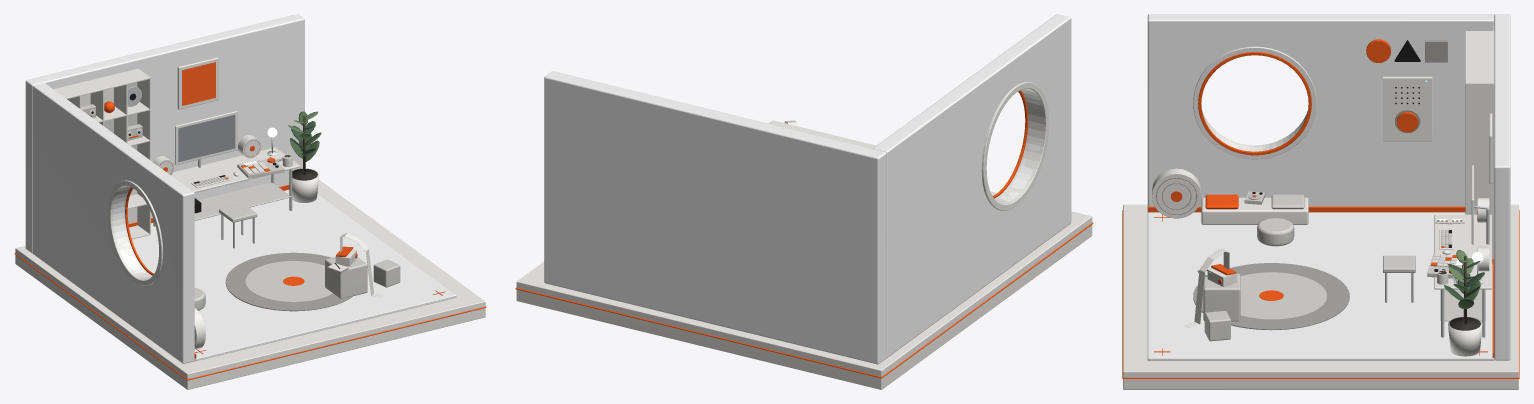
Rendered from room.glb.
3 renders of one model, left to right at view 1: azimuth 30°, elevation 25°; view 2: azimuth 150°, elevation 25°; view 3: azimuth 270°, elevation 25°, orthographic. The views are drawn at different scales.
Visible parts, largest first — view 1: WallLeft, Floor, WallRight, Plinth, CubbyWall, Rug, Desk, WindowRing, Screen_Terminal, Plant, CubeTable, Screen_Matrix (+7 smaller); view 2: WallRight, WallLeft, Plinth, WindowRing, CubbyWall; view 3: WallLeft, Floor, Plinth, Rug, WallRight, CubbyWall, WindowRing, Desk, Intercom, Bench, Plant, DiscSpeaker (+9 smaller).
Boxes of the visible parts, box(x1,y1,x2,y2) form: WallLeft: box(32, 83, 194, 363); Floor: box(132, 189, 456, 361); WallRight: box(25, 14, 304, 253); Plinth: box(14, 179, 486, 389); CubbyWall: box(53, 68, 150, 239); Rug: box(225, 252, 352, 311); Desk: box(153, 147, 300, 226); WindowRing: box(108, 180, 162, 285); Screen_Terminal: box(178, 114, 235, 162); Plant: box(288, 111, 321, 202); CubeTable: box(325, 257, 367, 298); Screen_Matrix: box(182, 62, 215, 105); WallRight: box(544, 71, 886, 364); WallLeft: box(873, 14, 1071, 357); Plinth: box(515, 191, 1093, 389); WindowRing: box(981, 82, 1049, 210); CubbyWall: box(768, 120, 876, 148); WallLeft: box(1147, 14, 1494, 206); Floor: box(1147, 212, 1494, 360); Plinth: box(1122, 204, 1519, 389); Rug: box(1193, 263, 1349, 330); WallRight: box(1494, 14, 1510, 360); CubbyWall: box(1465, 30, 1494, 264); WindowRing: box(1193, 46, 1316, 159); Desk: box(1434, 214, 1491, 337); Intercom: box(1383, 76, 1432, 141); Bench: box(1201, 194, 1308, 224); Plant: box(1444, 250, 1484, 356); DiscSpeaker: box(1152, 168, 1201, 218).
Bounding box in the file's own units: 9.64 × 5.7 × 9.64.
